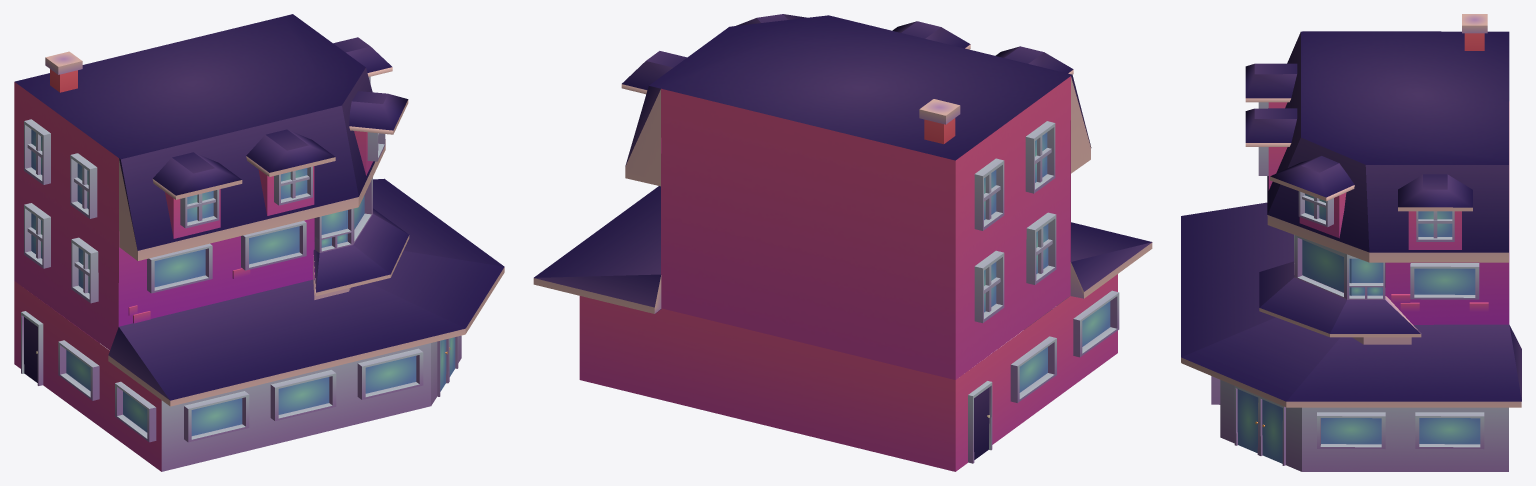
File: SM_Cornerstore.fbx
The picture shows the model from 3 angles, left to right: view 1: azimuth 30°, elevation 25°; view 2: azimuth 150°, elevation 25°; view 3: azimuth 270°, elevation 25°; orthographic projection. The views are drawn at different scales.
Visible parts, largest first — view 1: SM_Cornerstore; view 2: SM_Cornerstore; view 3: SM_Cornerstore.
Part boxes in pixels (bbox=[...]): SM_Cornerstore: bbox=[14, 14, 504, 471]; SM_Cornerstore: bbox=[533, 14, 1152, 471]; SM_Cornerstore: bbox=[1181, 14, 1521, 471].
Size of the model in its own units: 15.19 by 11.79 by 11.6.
